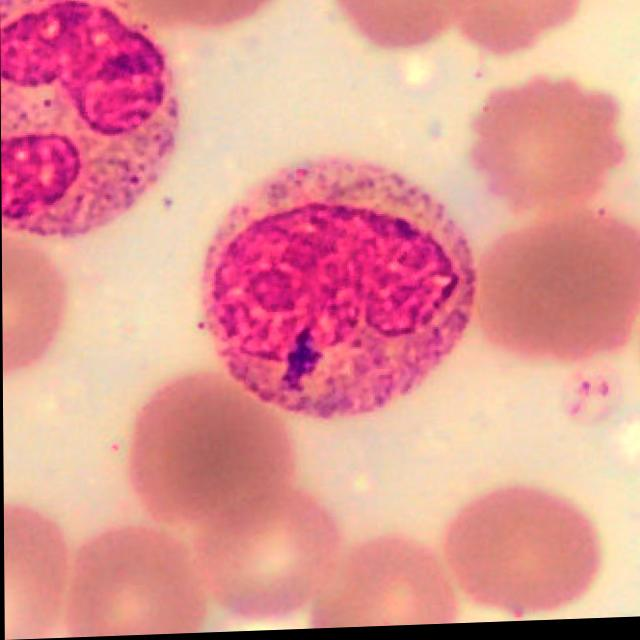Metamielocito: (197, 161, 478, 426)
